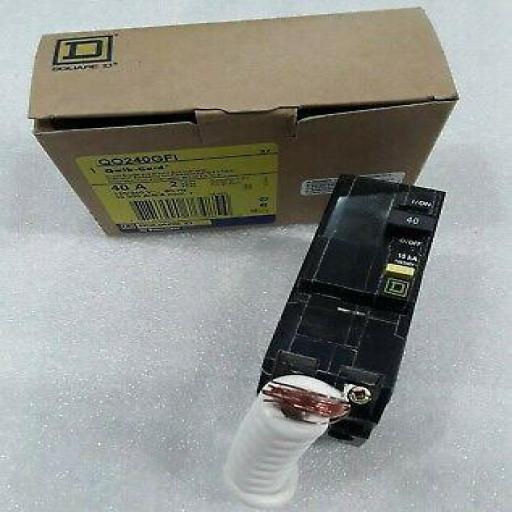cardboard: (28, 6, 460, 237)
